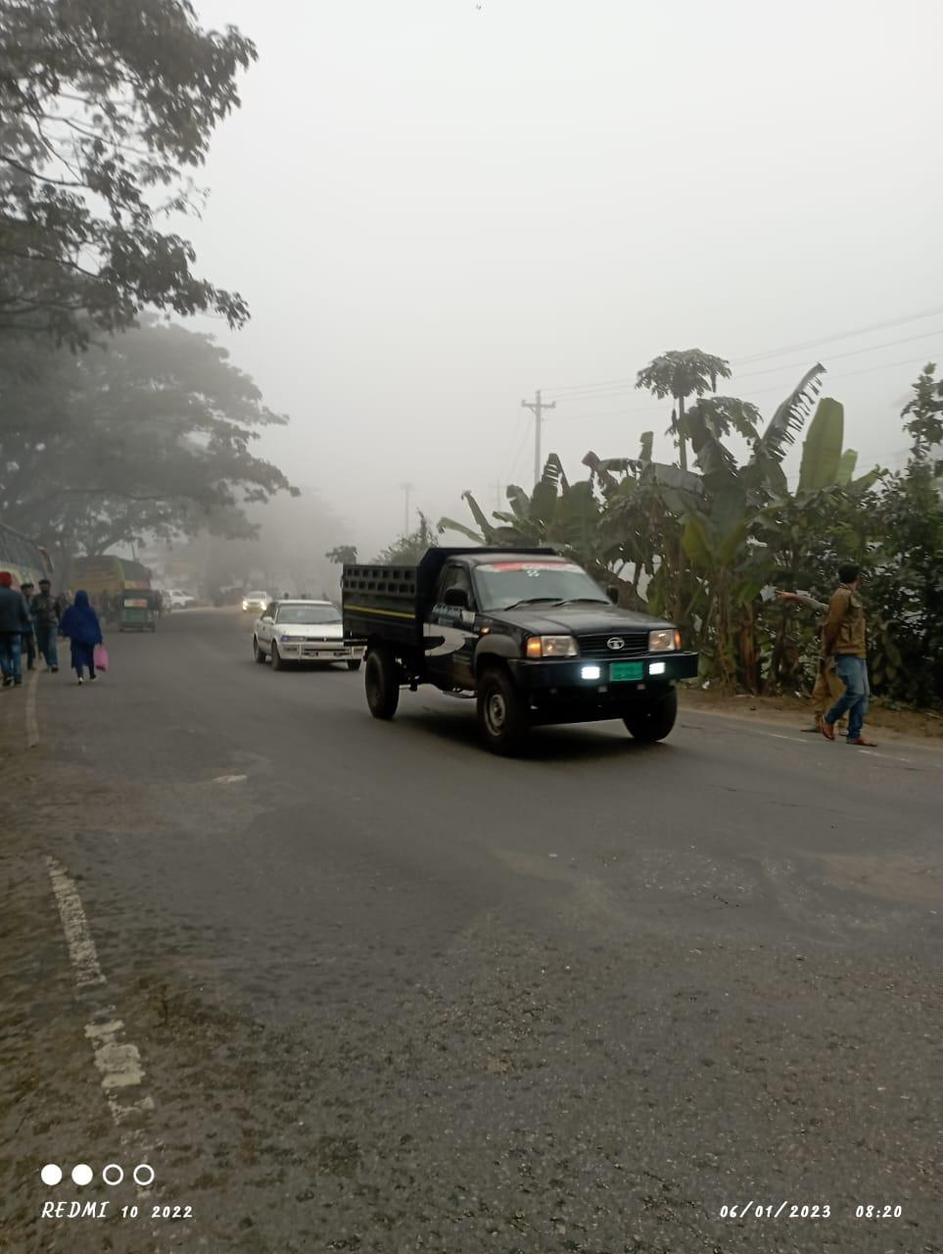Bus: (65, 545, 163, 622)
Car: (247, 592, 360, 679)
Truck: (330, 540, 702, 764)
